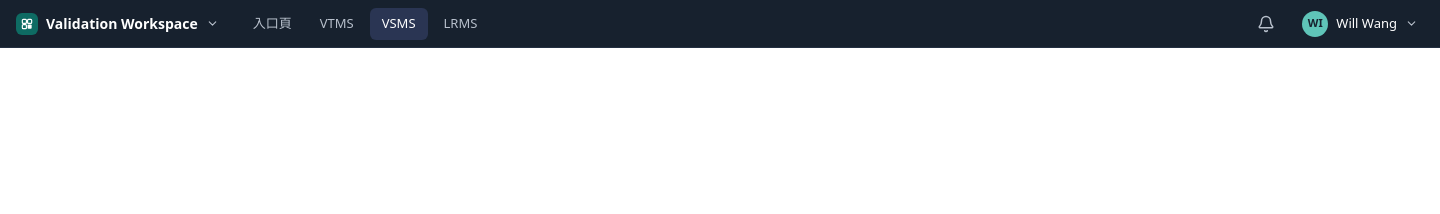
Scenario: Topbar：使用者選單 › user：標頭顯示名稱與「測試人員」
Click the button with aria-label "使用者選單" at (1361, 24), box [1298,8,1424,40]
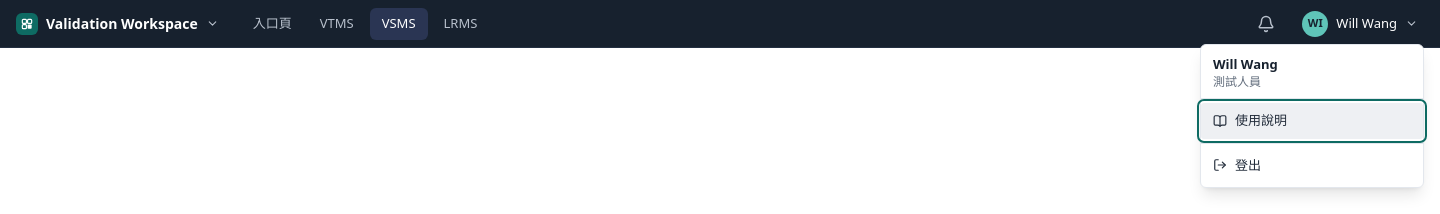
Now the 2nd text "Will Wang" is shown, box [1213,54,1278,72]
Now the text "測試人員" is shown, box [1213,73,1261,90]
